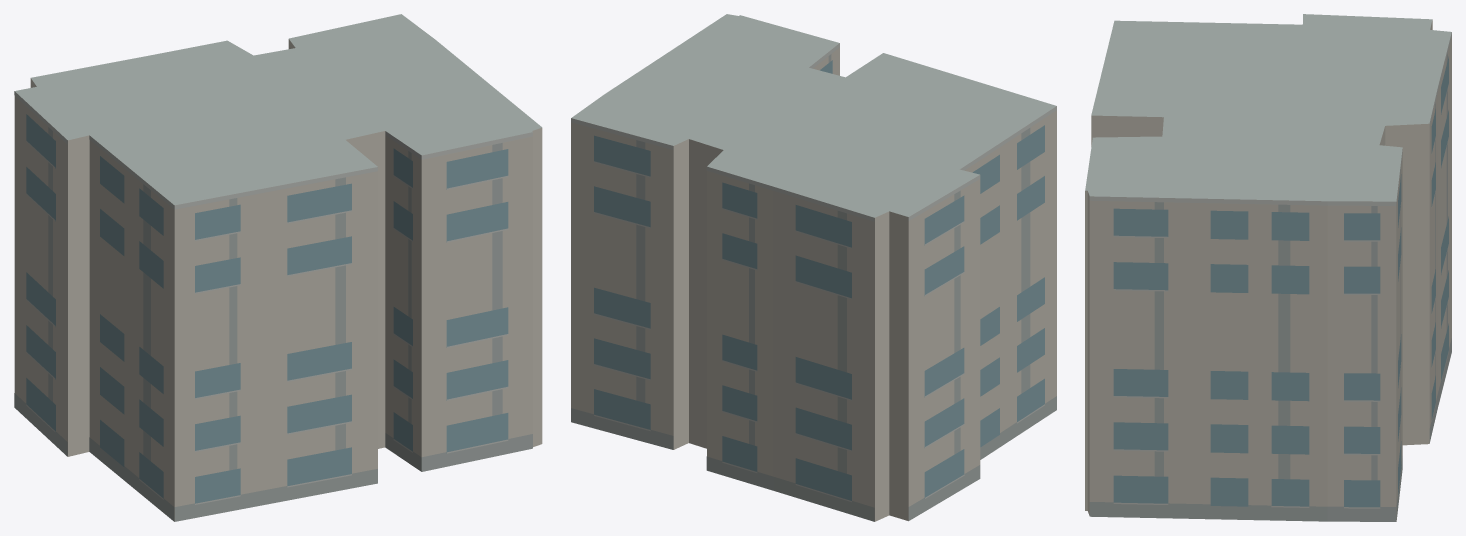
File: survey-upis-32663663.glb
The picture shows the model from 3 angles, left to right: view 1: azimuth 30°, elevation 25°; view 2: azimuth 150°, elevation 25°; view 3: azimuth 270°, elevation 25°; orthographic projection. The views are drawn at different scales.
Parts seen in each view (by area): view 1: survey-upis-32663663.tmp; view 2: survey-upis-32663663.tmp; view 3: survey-upis-32663663.tmp.
Boxes of the visible parts, x1,y1,x2,y2 form: survey-upis-32663663.tmp: [14, 14, 542, 521]; survey-upis-32663663.tmp: [571, 14, 1056, 521]; survey-upis-32663663.tmp: [1085, 14, 1451, 521].
Bounding box in the file's own units: 22.36 × 17.8 × 18.48.
